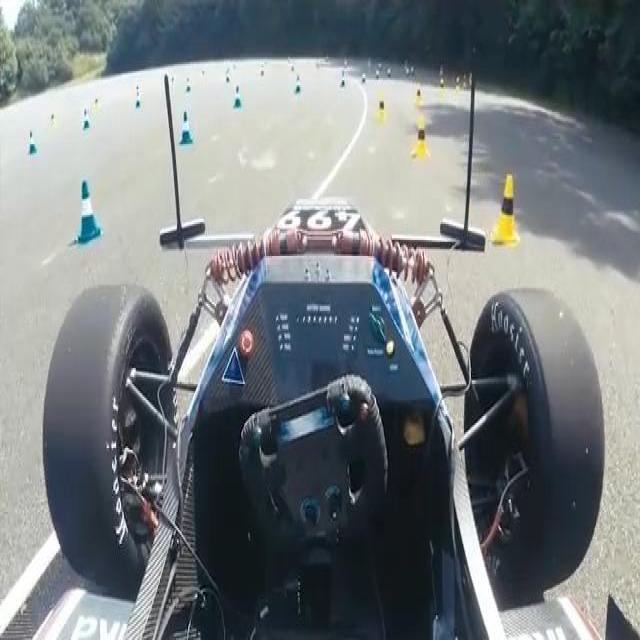blue_cone: (73, 178, 108, 242), (178, 112, 195, 143), (291, 68, 307, 99), (336, 70, 353, 92), (234, 82, 245, 113), (359, 68, 366, 84)
yellow_cone: (486, 160, 521, 248), (413, 114, 430, 161), (413, 80, 428, 104), (377, 98, 389, 126)
